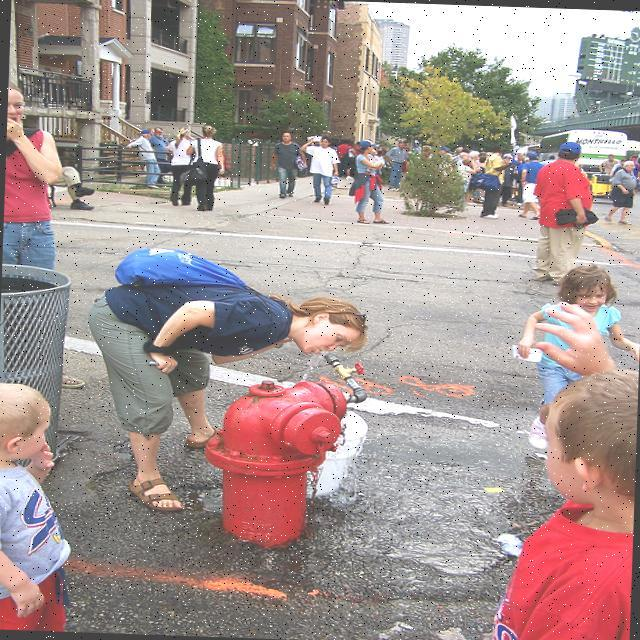fire_hydrant: (198, 370, 344, 548)
